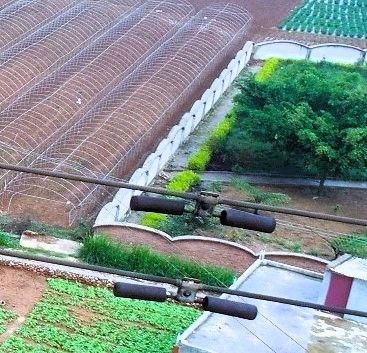Shockproof hammer: (107, 265, 260, 324), (126, 179, 278, 237)
